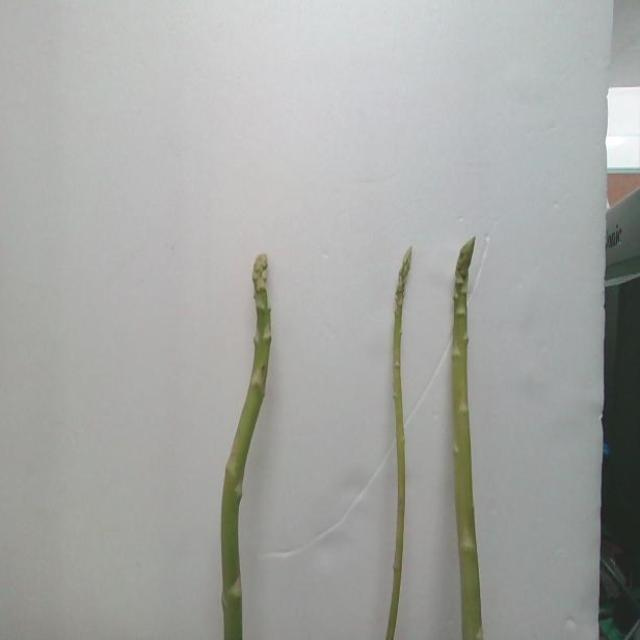aspargus: (223, 256, 275, 640), (449, 241, 487, 640), (385, 252, 412, 640)
